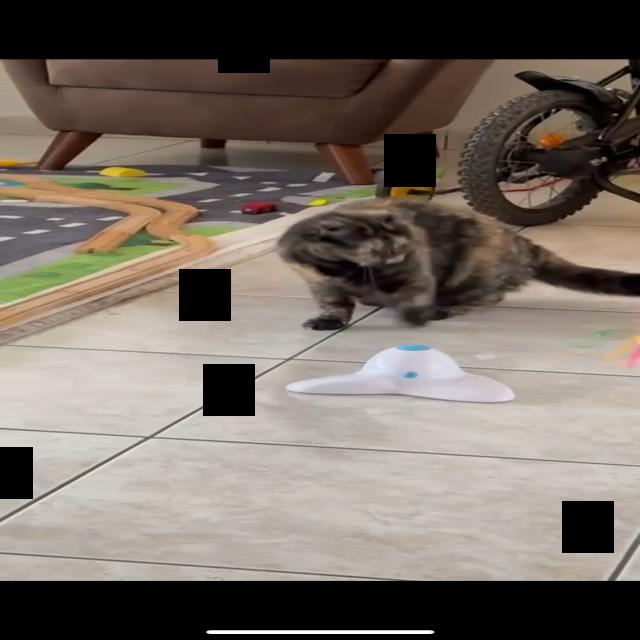authorized: (274, 196, 639, 331)
